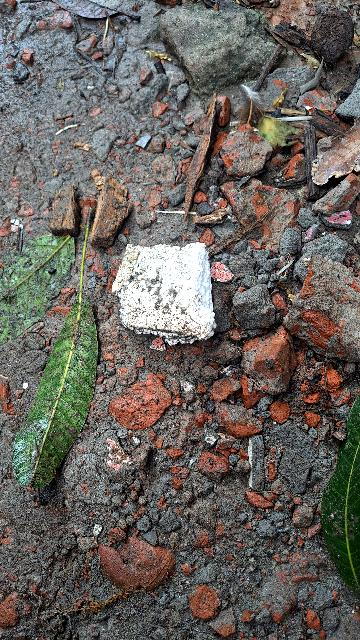cocksheet: (92, 217, 240, 370)
